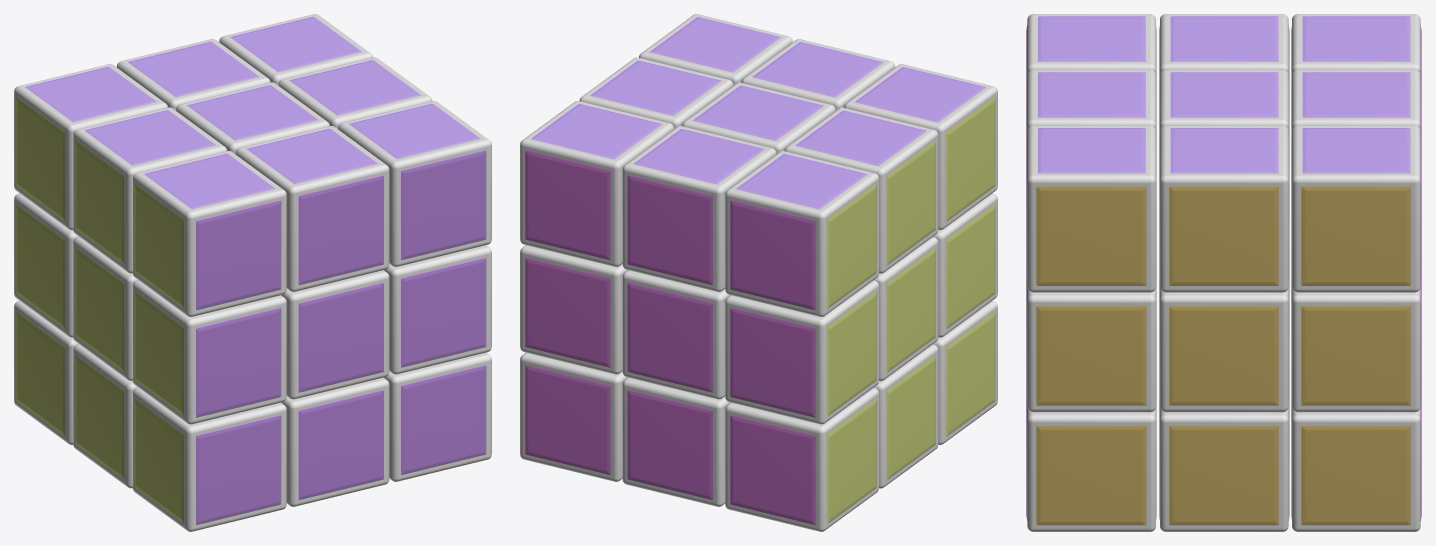
Rendered from KUBIK.gltf.
The picture shows the model from 3 angles, left to right: view 1: azimuth 30°, elevation 25°; view 2: azimuth 150°, elevation 25°; view 3: azimuth 270°, elevation 25°; orthographic projection. The views are drawn at different scales.
Parts seen in each view (by area): view 1: Plane.007, Plane.124, Plane.115, Plane.103, Plane.100, Plane.091, Plane.112, Plane.004, Plane.016, Cube.021, Cube.020, Cube.019 (+34 smaller); view 2: Plane.161, Plane.149, Plane.066, Plane.065, Plane.054, Plane.042, Plane.041, Plane.053, Plane.150, Cube.027, Cube.025, Cube.026 (+34 smaller); view 3: Plane.107, Plane.108, Plane, Plane.072, Plane.071, Plane.144, Plane.143, Plane.036, Plane.035, Cube.025, Cube.024, Cube.019 (+21 smaller).
Boxes of the visible parts, x1,y1,x2,y2 form: Plane.007: (298, 390, 383, 499); Plane.124: (196, 200, 281, 310); Plane.115: (298, 175, 383, 285); Plane.103: (401, 258, 486, 367); Plane.100: (298, 283, 383, 392); Plane.091: (196, 308, 281, 417); Plane.112: (401, 150, 486, 260); Plane.004: (401, 365, 486, 474); Plane.016: (196, 415, 281, 524); Cube.021: (133, 151, 286, 316); Cube.020: (235, 126, 389, 291); Cube.019: (338, 101, 491, 266); Plane.161: (730, 200, 815, 309); Plane.149: (525, 150, 610, 259); Plane.066: (525, 258, 610, 367); Plane.065: (627, 283, 712, 392); Plane.054: (730, 308, 815, 417); Plane.042: (627, 390, 712, 499); Plane.041: (525, 365, 610, 474); Plane.053: (730, 415, 815, 524); Plane.150: (627, 175, 712, 284); Cube.027: (725, 151, 878, 316); Cube.025: (520, 101, 673, 266); Cube.026: (622, 126, 776, 291); Plane.107: (1036, 306, 1146, 405); Plane.108: (1036, 186, 1146, 285); Plane: (1036, 426, 1146, 525); Plane.072: (1169, 306, 1278, 405); Plane.071: (1301, 306, 1410, 405); Plane.144: (1301, 186, 1410, 285); Plane.143: (1169, 186, 1278, 285); Plane.036: (1301, 426, 1410, 525); Plane.035: (1169, 426, 1278, 525); Cube.025: (1292, 125, 1420, 292); Cube.024: (1160, 125, 1288, 292); Cube.019: (1027, 125, 1155, 292).
Bounding box in the file's own units: 5.98 × 5.97 × 5.99.
